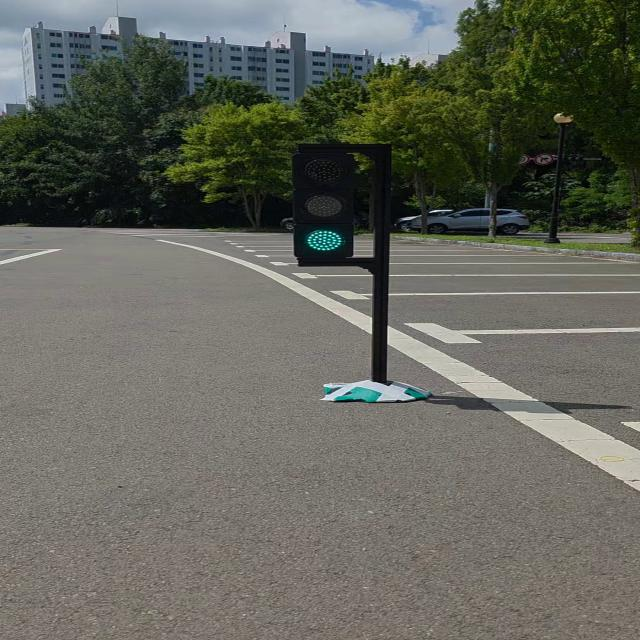green: (290, 144, 360, 267)
